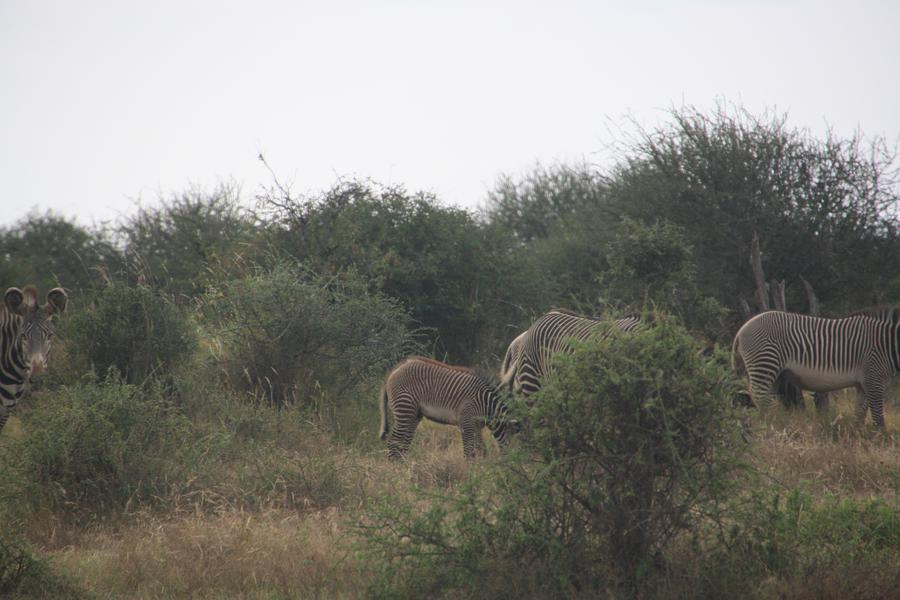zebra_grevys: (732, 298, 888, 386)
